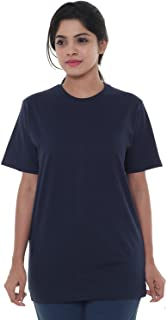tshirt: (1, 76, 167, 301)
